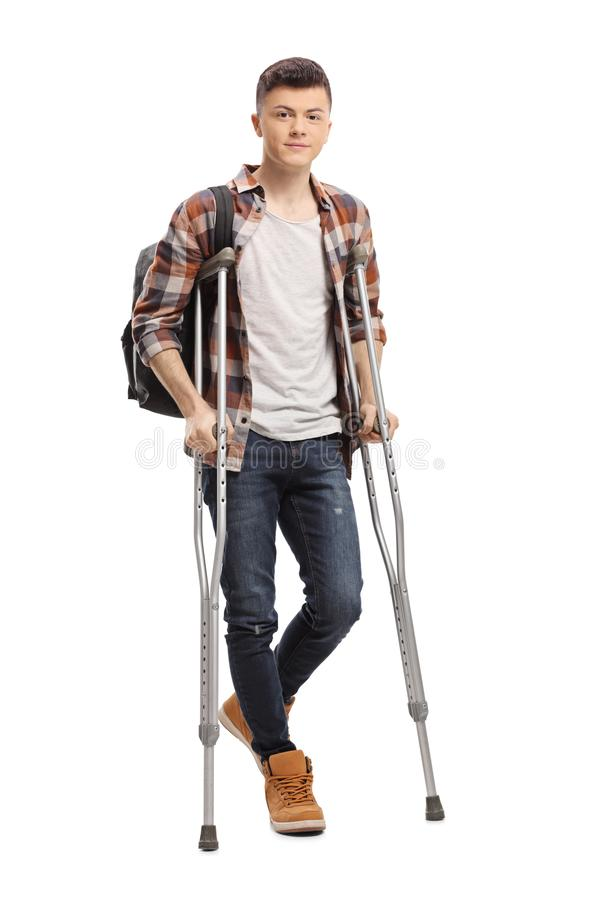crutches: (116, 55, 444, 851)
